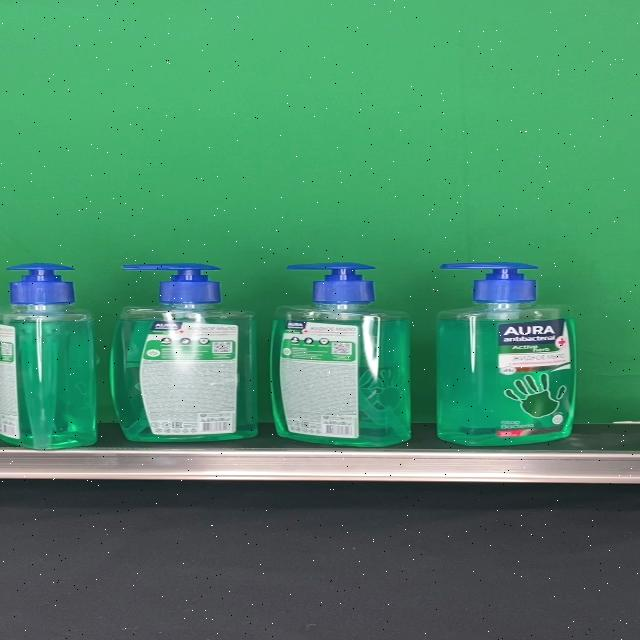Bottle: (110, 263, 257, 442), (271, 263, 411, 447), (436, 263, 576, 446), (0, 262, 97, 450)
Cap: (439, 263, 540, 305), (122, 263, 222, 305), (286, 263, 378, 305), (5, 262, 76, 304)
